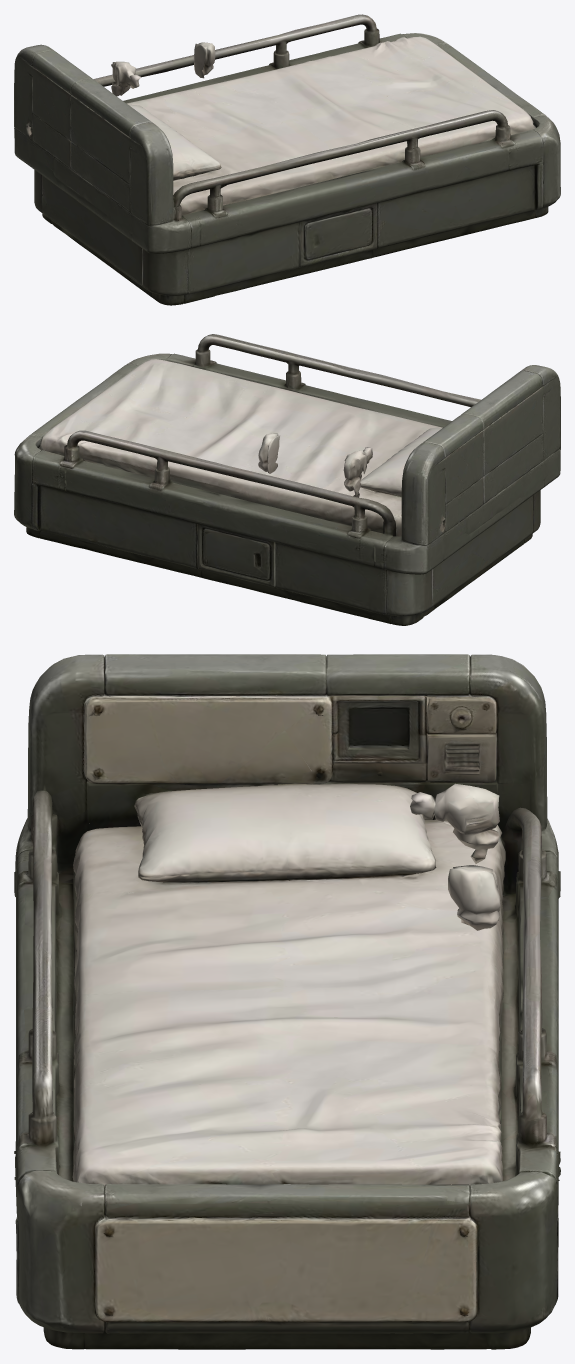
The model's file is bed.glb.
3 renders of one model, top to bottom at view 1: azimuth 30°, elevation 25°; view 2: azimuth 150°, elevation 25°; view 3: azimuth 270°, elevation 25°, orthographic. The views are drawn at different scales.
Parts seen in each view (by area): view 1: tripo_node_2b3e09a1-9625-46f0-99e9-bdd386789c9f; view 2: tripo_node_2b3e09a1-9625-46f0-99e9-bdd386789c9f; view 3: tripo_node_2b3e09a1-9625-46f0-99e9-bdd386789c9f.
Part boxes in pixels (x1,y1,x2,y2): tripo_node_2b3e09a1-9625-46f0-99e9-bdd386789c9f: (14, 14, 560, 305); tripo_node_2b3e09a1-9625-46f0-99e9-bdd386789c9f: (14, 334, 560, 625); tripo_node_2b3e09a1-9625-46f0-99e9-bdd386789c9f: (14, 654, 560, 1349).
Bounding box in the file's own units: 0.982 × 0.3885 × 0.5858.
Materials: 1 (1 with a texture image).
